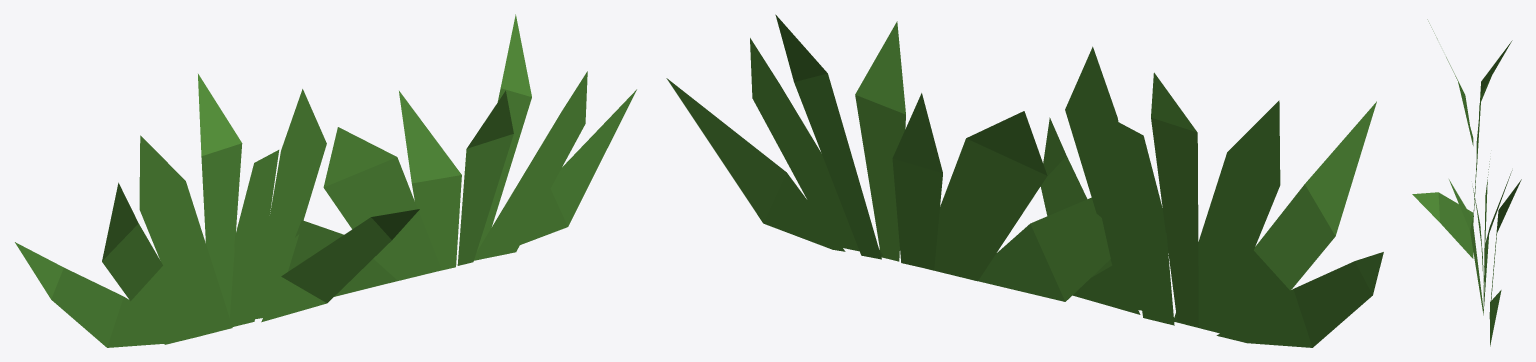
File: grass-long.glb
3 views of the same model, side by side, from view 1: azimuth 30°, elevation 25°; view 2: azimuth 150°, elevation 25°; view 3: azimuth 270°, elevation 25° (orthographic). The views are drawn at different scales.
Parts seen in each view (by area): view 1: grass-long; view 2: grass-long; view 3: grass-long.
Part boxes in pixels (left/top/right/bottom): grass-long: left=15, top=14, right=636, bottom=347; grass-long: left=666, top=14, right=1383, bottom=347; grass-long: left=1412, top=19, right=1521, bottom=346.
Size of the model in its own units: 2.01 by 0.7394 by 0.4012.
